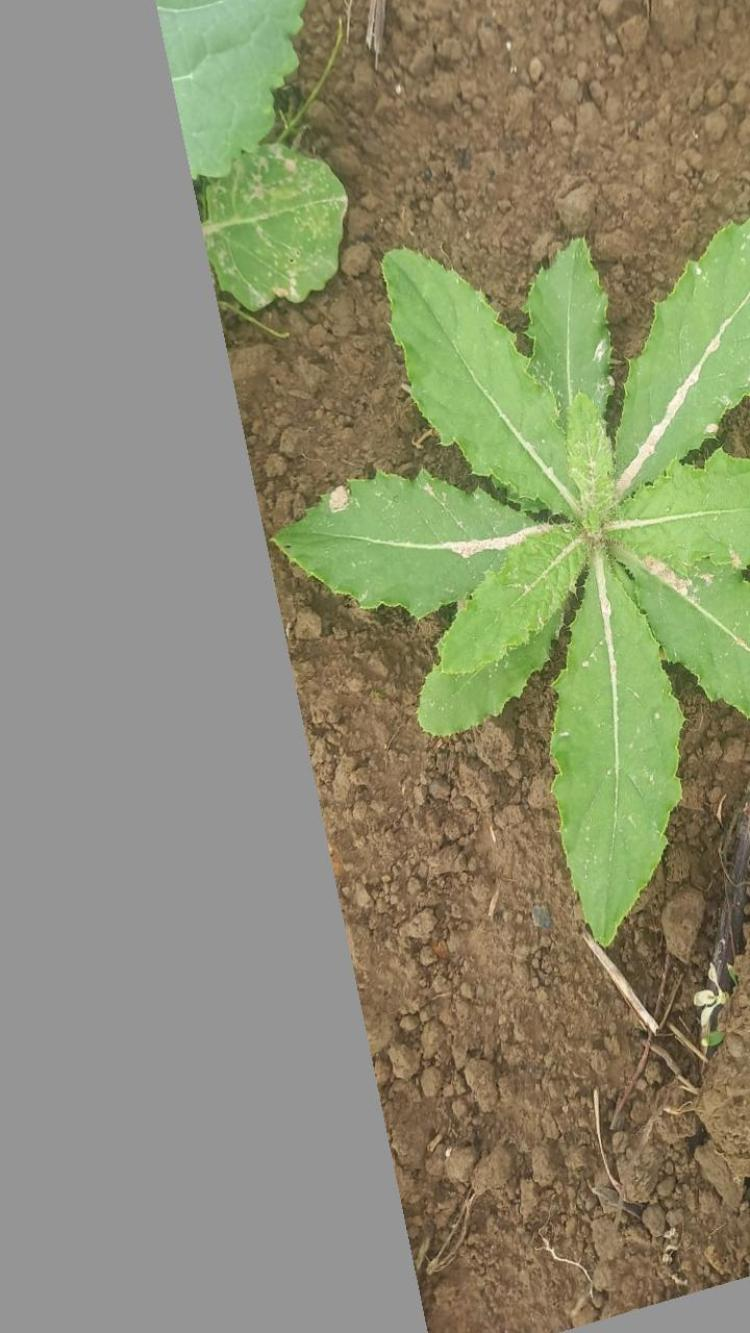osot: (271, 233, 750, 950)
